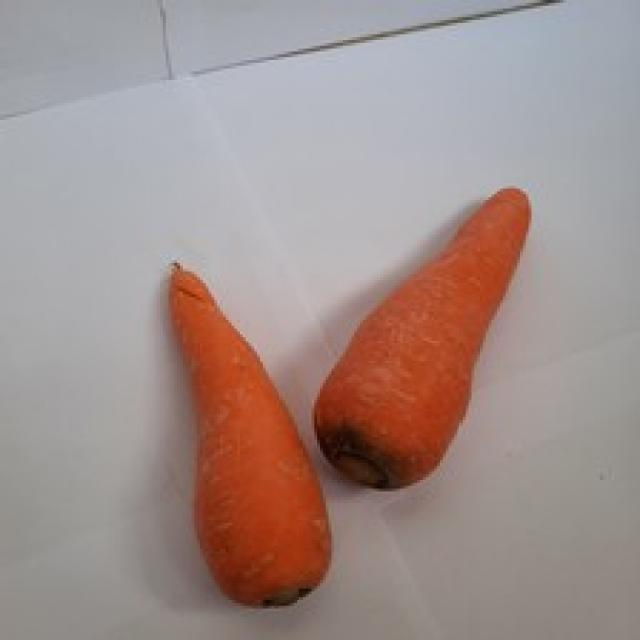carrot: (311, 179, 547, 490), (162, 255, 332, 616)
